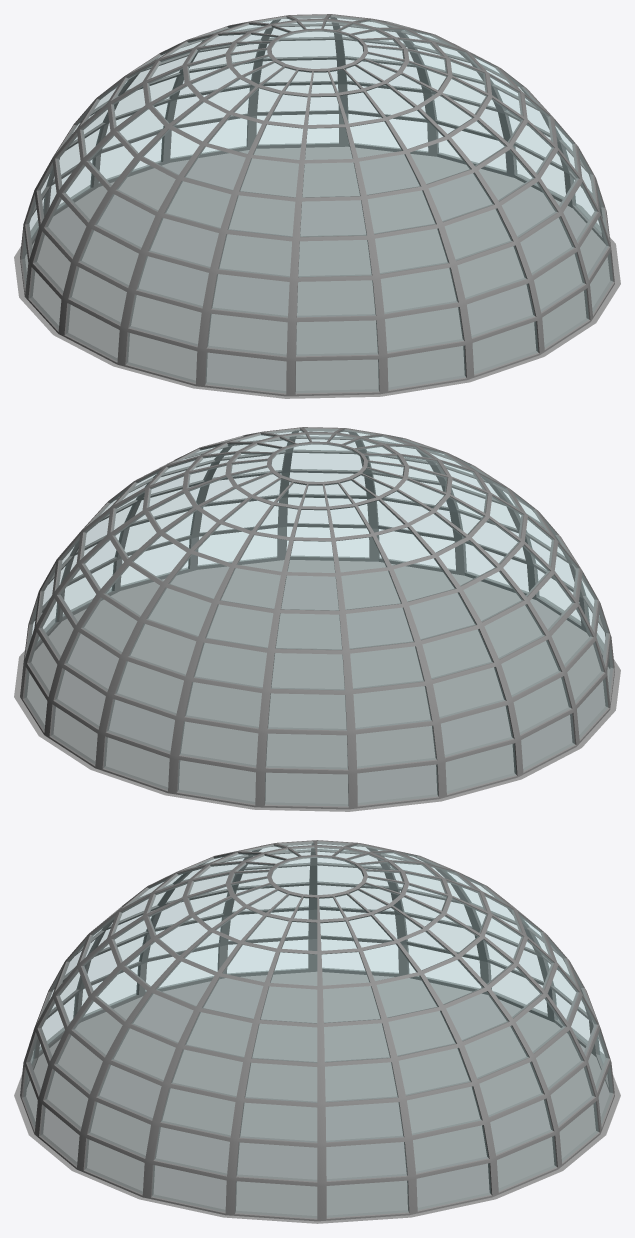
Rendered from Dome_UVed.fbx.
The picture shows the model from 3 angles, top to bottom: view 1: azimuth 30°, elevation 25°; view 2: azimuth 150°, elevation 25°; view 3: azimuth 270°, elevation 25°; orthographic projection.
Visible parts, largest first — view 1: glassPanes, pCylinder1, frame; view 2: glassPanes, pCylinder1, frame; view 3: glassPanes, pCylinder1, frame.
Boxes of the visible parts, x1,y1,x2,y2 form: glassPanes: (23, 16, 612, 392); pCylinder1: (14, 142, 620, 398); frame: (20, 14, 614, 396); glassPanes: (24, 429, 612, 805); pCylinder1: (14, 555, 620, 811); frame: (20, 427, 614, 809); glassPanes: (24, 842, 612, 1217); pCylinder1: (14, 967, 620, 1223); frame: (20, 840, 614, 1221).
Bounding box in the file's own units: 2012 × 806 × 2012.
